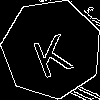K: (26, 24, 75, 79)
